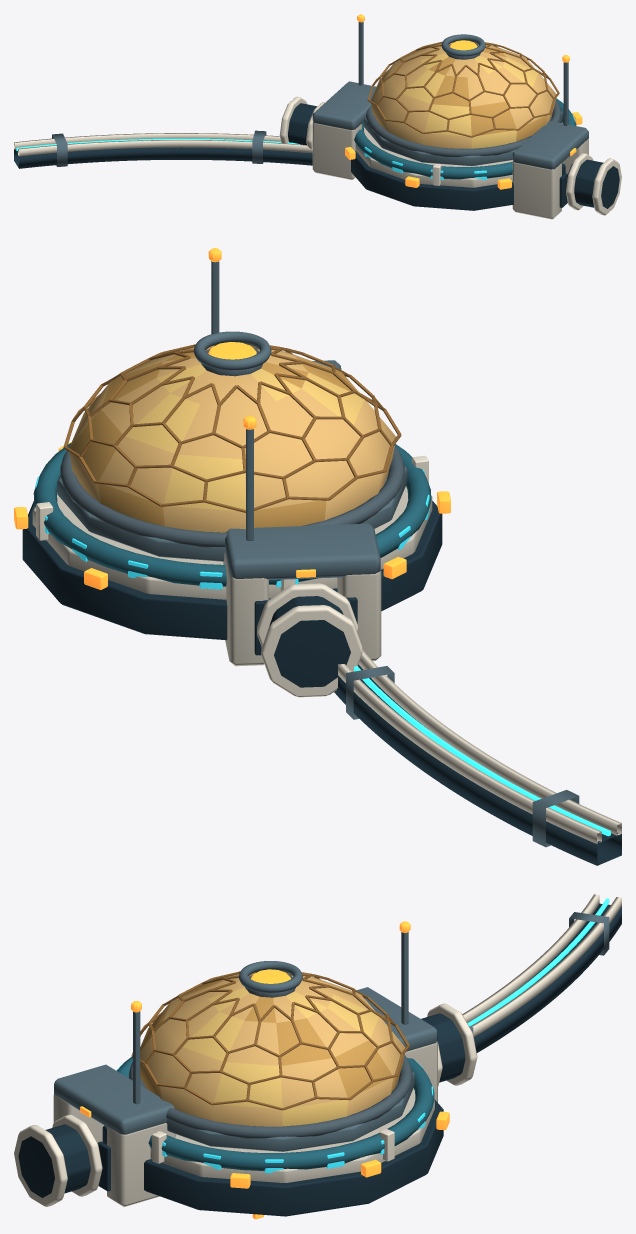
The model's file is refinery.glb.
3 renders of one model, top to bottom at view 1: azimuth 30°, elevation 25°; view 2: azimuth 150°, elevation 25°; view 3: azimuth 270°, elevation 25°, orthographic. The views are drawn at different scales.
Parts seen in each view (by area): view 1: Heat chamber gold faceted crown, Heat chamber dark integrated foundation, Fine orbital pressure web, Heat node through-track socket cheek.001, Heat node track portal lintel, Fine ivory rail head, Heat chamber recessed observation band, Heat node through-track socket cheek.003, Heat node track portal lintel.001, Heat chamber gold dome bearing, Heat chamber lower armored ring deck, Fine ivory rail head.001 (+12 smaller); view 2: Heat chamber gold faceted crown, Heat chamber dark integrated foundation, Heat node track portal lintel.001, Heat chamber recessed observation band, Fine orbital pressure web, Heat chamber gold dome bearing, Heat chamber lower armored ring deck, Heat rail pressure coupler faceted dark sleeve.001, Fine ivory rail head.001, Fine ivory rail head, Heat chamber upper armored ring deck, Heat rail coupler ivory locking collar.003 (+7 smaller); view 3: Heat chamber gold faceted crown, Heat chamber dark integrated foundation, Heat chamber recessed observation band, Heat node track portal lintel, Heat chamber lower armored ring deck, Heat chamber gold dome bearing, Heat chamber upper armored ring deck, Heat rail pressure coupler faceted dark sleeve, Fine orbital pressure web, Heat node through-track socket cheek, Fine ivory rail head.001, Fine ivory rail head (+14 smaller).
Boxes of the visible parts, x1,y1,x2,y2 form: Heat chamber gold faceted crown: (371,42,556,148); Heat chamber dark integrated foundation: (351,151,565,210); Fine orbital pressure web: (14,147,312,168); Heat node through-track socket cheek.001: (512,161,561,219); Heat node track portal lintel: (512,120,588,169); Fine ivory rail head: (18,140,312,156); Heat chamber recessed observation band: (354,98,576,179); Heat node through-track socket cheek.003: (312,121,361,179); Heat node track portal lintel.001: (312,81,376,130); Heat chamber gold dome bearing: (366,99,561,156); Heat chamber lower armored ring deck: (355,122,562,187); Fine ivory rail head.001: (14,133,280,149); Heat chamber gold faceted crown: (69,345,395,532); Heat chamber dark integrated foundation: (22,501,442,640); Heat node track portal lintel.001: (225,523,380,579); Heat chamber recessed observation band: (33,443,431,586); Fine orbital pressure web: (334,664,621,865); Heat chamber gold dome bearing: (60,444,404,547); Heat chamber lower armored ring deck: (32,486,432,599); Heat rail pressure coupler faceted dark sleeve.001: (269,596,350,687); Fine ivory rail head.001: (338,664,601,843); Fine ivory rail head: (359,650,621,835); Heat chamber upper armored ring deck: (57,465,407,561); Heat rail coupler ivory locking collar.003: (261,605,362,697); Heat chamber gold faceted crown: (140,972,405,1126); Heat chamber dark integrated foundation: (102,1100,443,1216); Heat chamber recessed observation band: (117,1057,434,1170); Heat node track portal lintel: (54,1064,174,1134); Heat chamber lower armored ring deck: (150,1088,434,1182); Heat chamber gold dome bearing: (129,1054,412,1138); Heat chamber upper armored ring deck: (166,1071,414,1151); Heat rail pressure coupler faceted dark sleeve: (18,1124,90,1197); Fine orbital pressure web: (474,903,621,1052); Heat node through-track socket cheek: (107,1123,175,1206); Fine ivory rail head.001: (470,897,621,1036); Fine ivory rail head: (462,894,599,1022).
Bounding box in the file's own units: 5.39 × 1.65 × 4.45.
